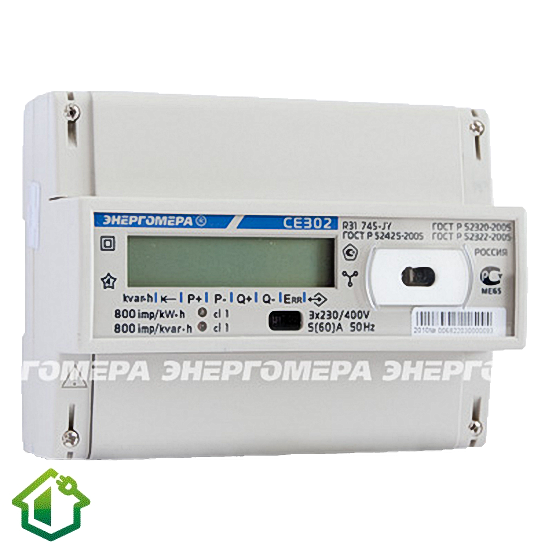counter: (45, 86, 529, 457)
counter_screen: (125, 233, 338, 290)
